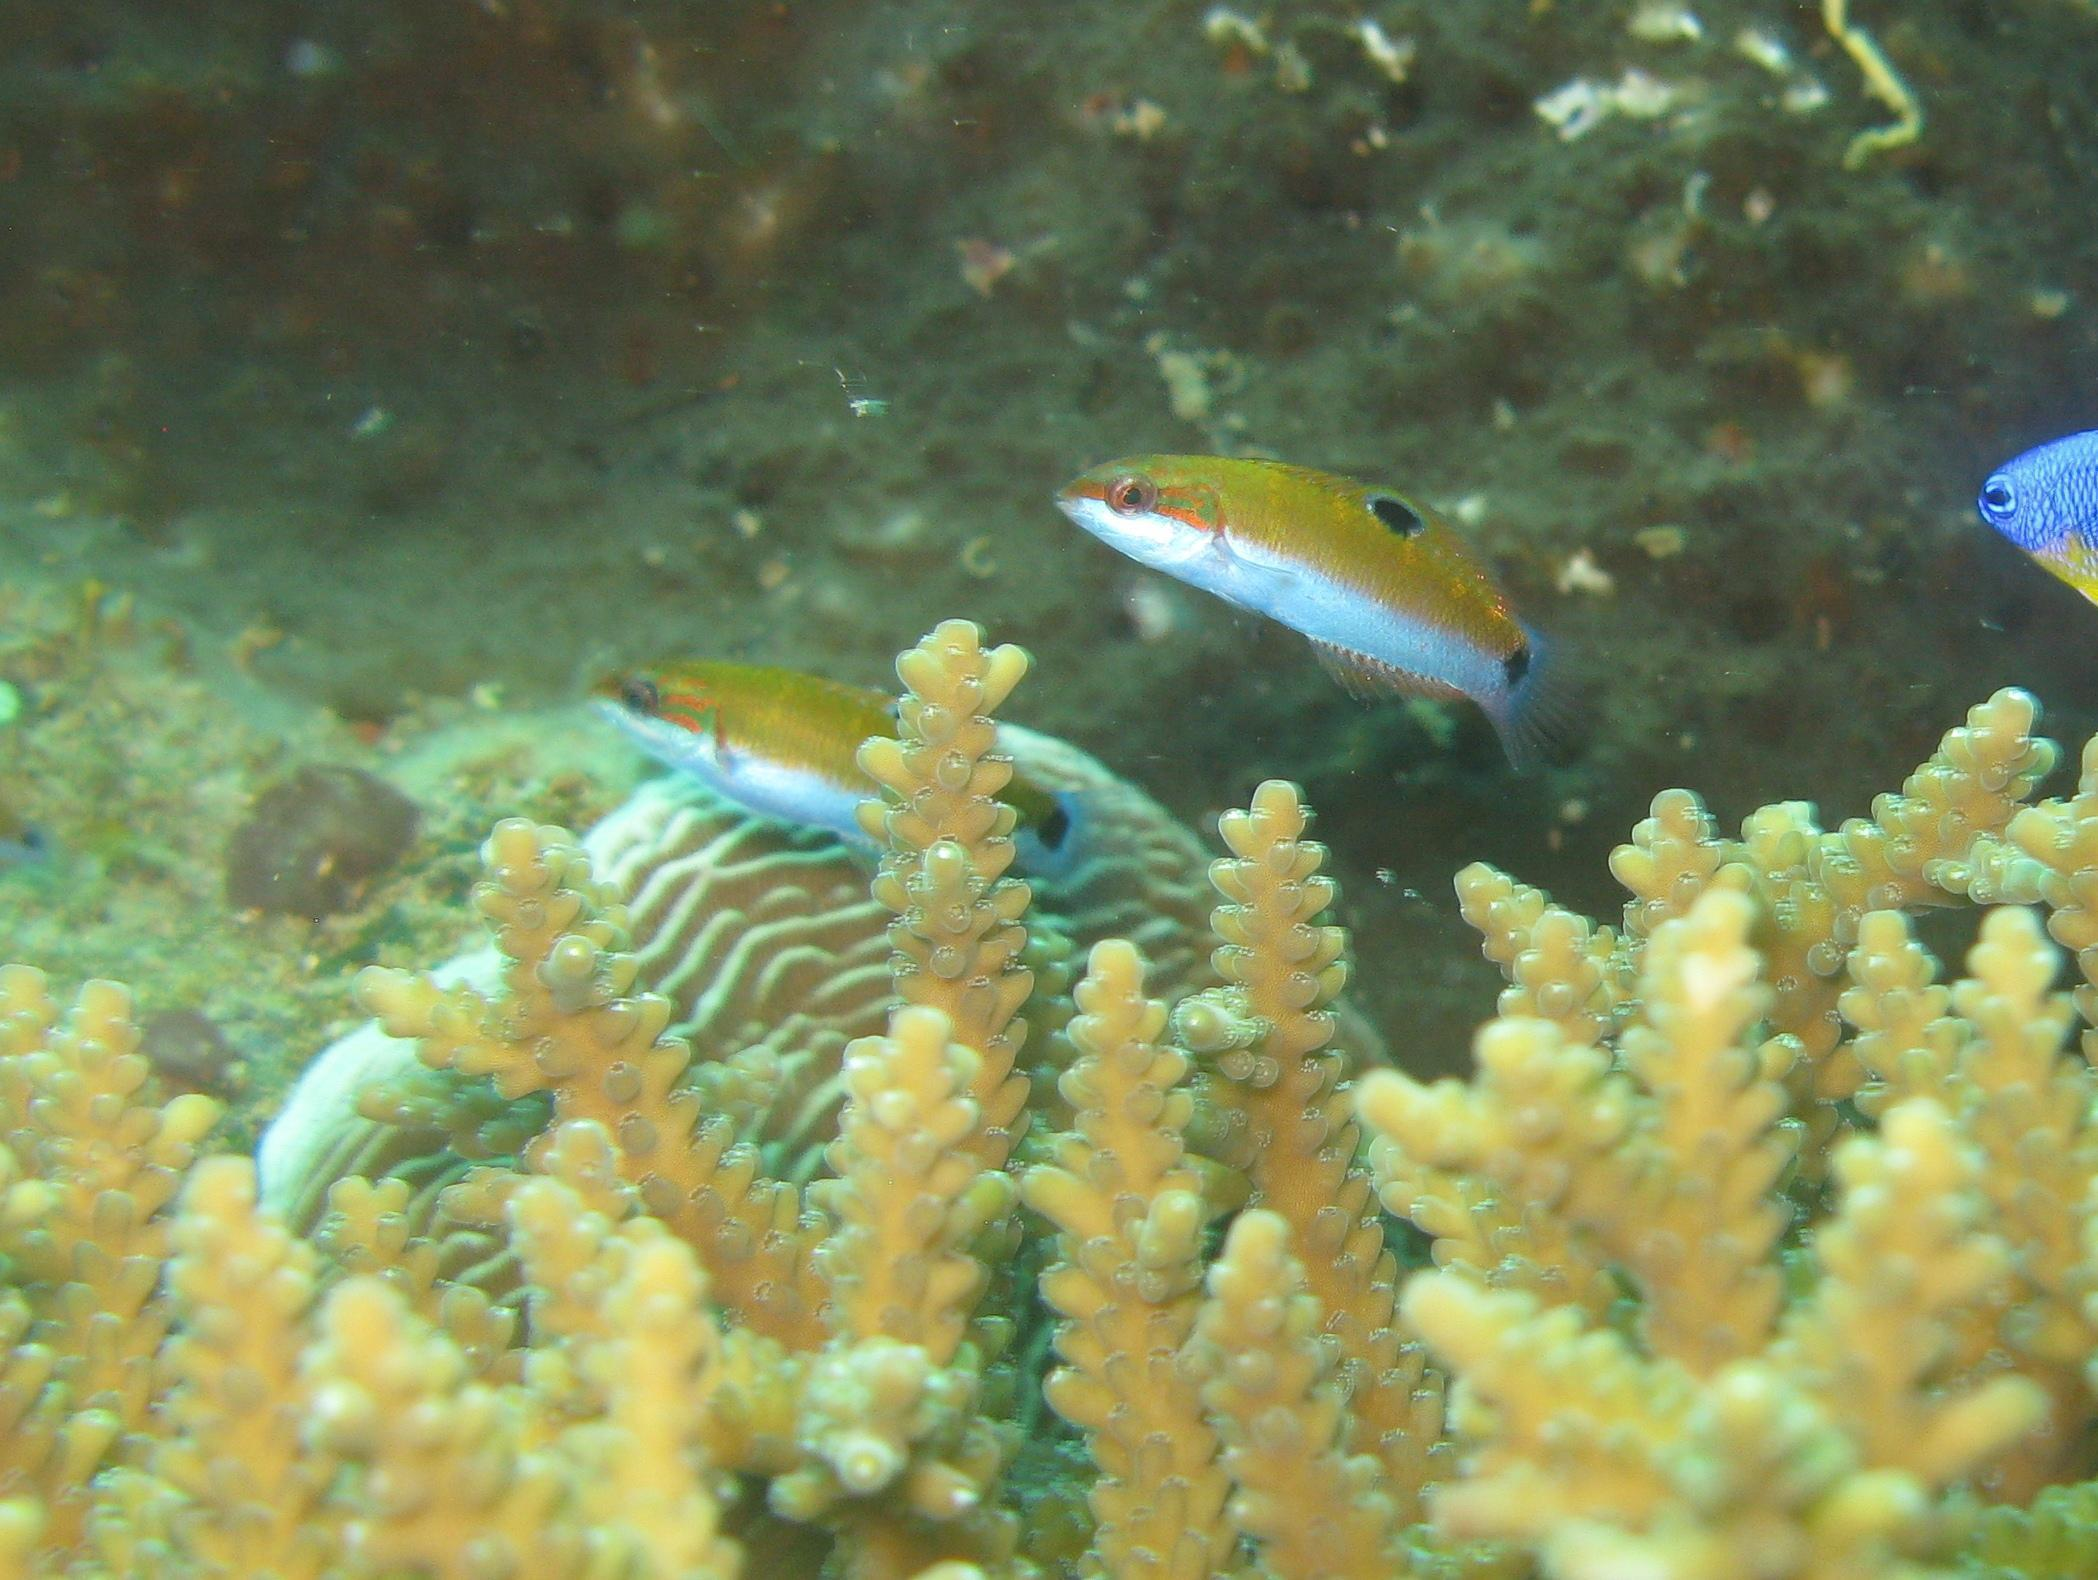Fish: (1017, 337, 1633, 803)
